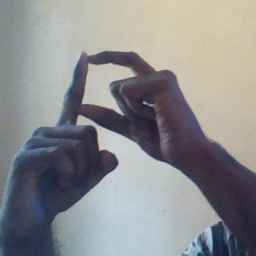D: (33, 41, 173, 167)
